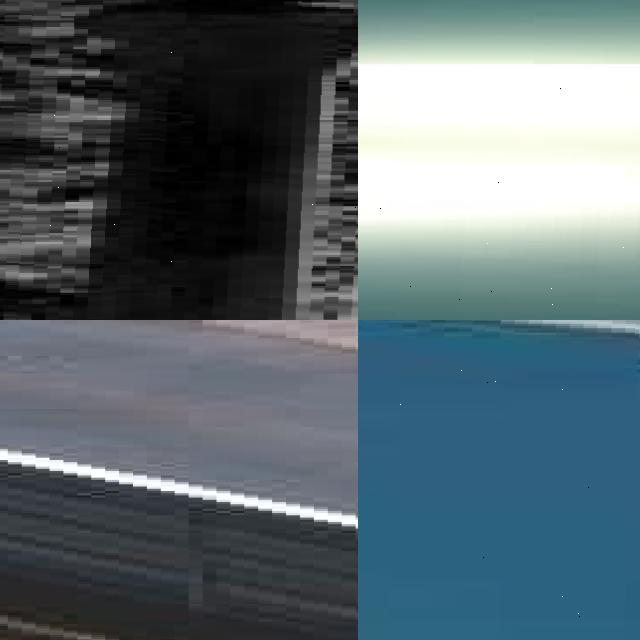street light: (0, 0, 358, 320), (358, 320, 640, 640), (358, 64, 640, 320)
